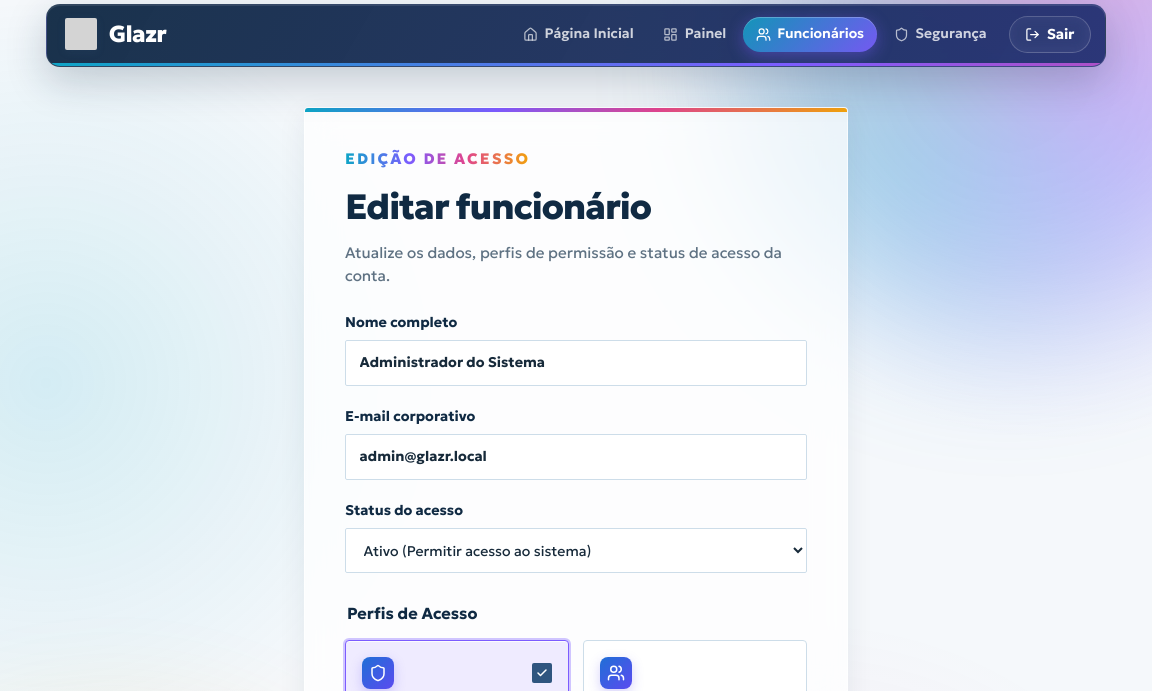
edita dados e trata proteção contra desativação do último administrador
Check: the field showing "Administrador do Sistema" is shown, box [345,340,807,386]
# Altera status para Inativo
Select "Inativo (Bloquear acesso e encerrar sessões)" in the dropdown labelled "Status do acesso" at (576, 551), box [345,528,807,573]
(page scrolled)
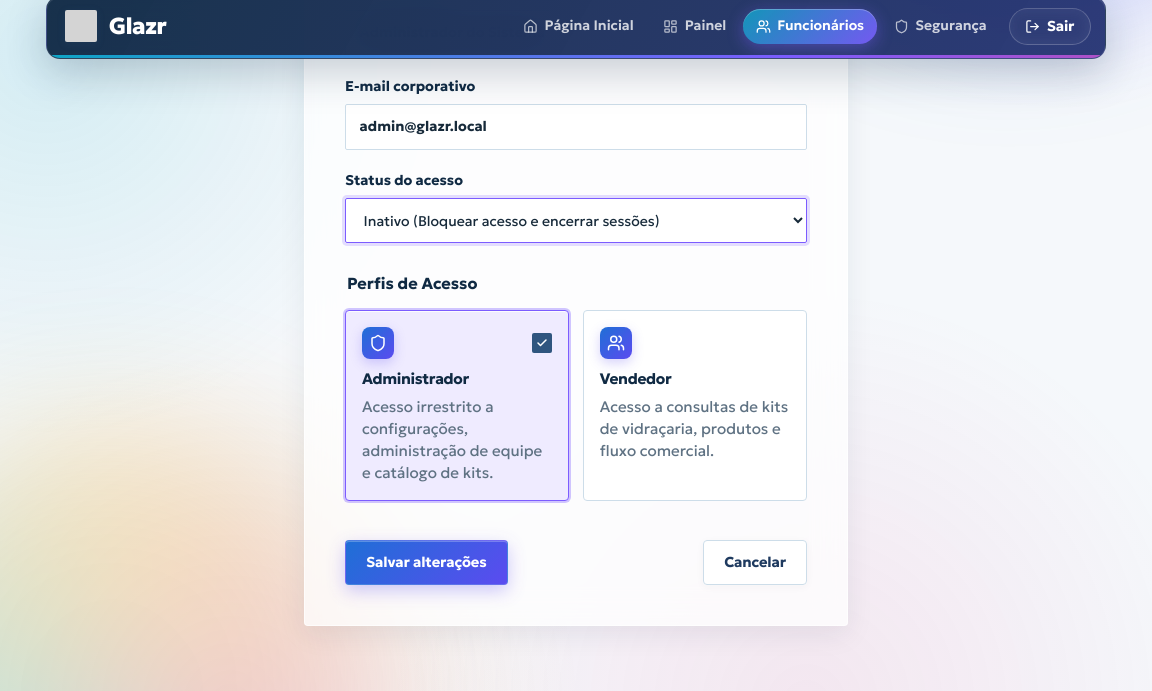
Click the button "Salvar alterações".
click(426, 562)  # box [345,540,508,585]
(page scrolled)
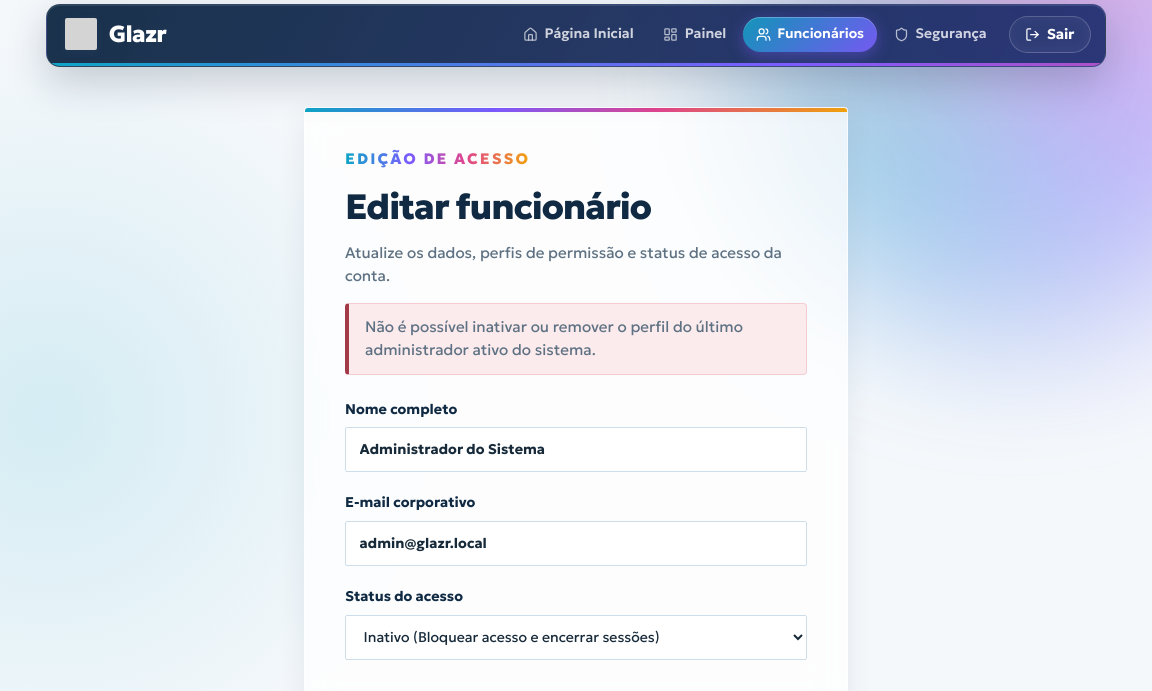
Check: the text "Não é possível inativar ou remover o perfil do último administrador ativo do sistema." is shown, box [365,317,743,359]
